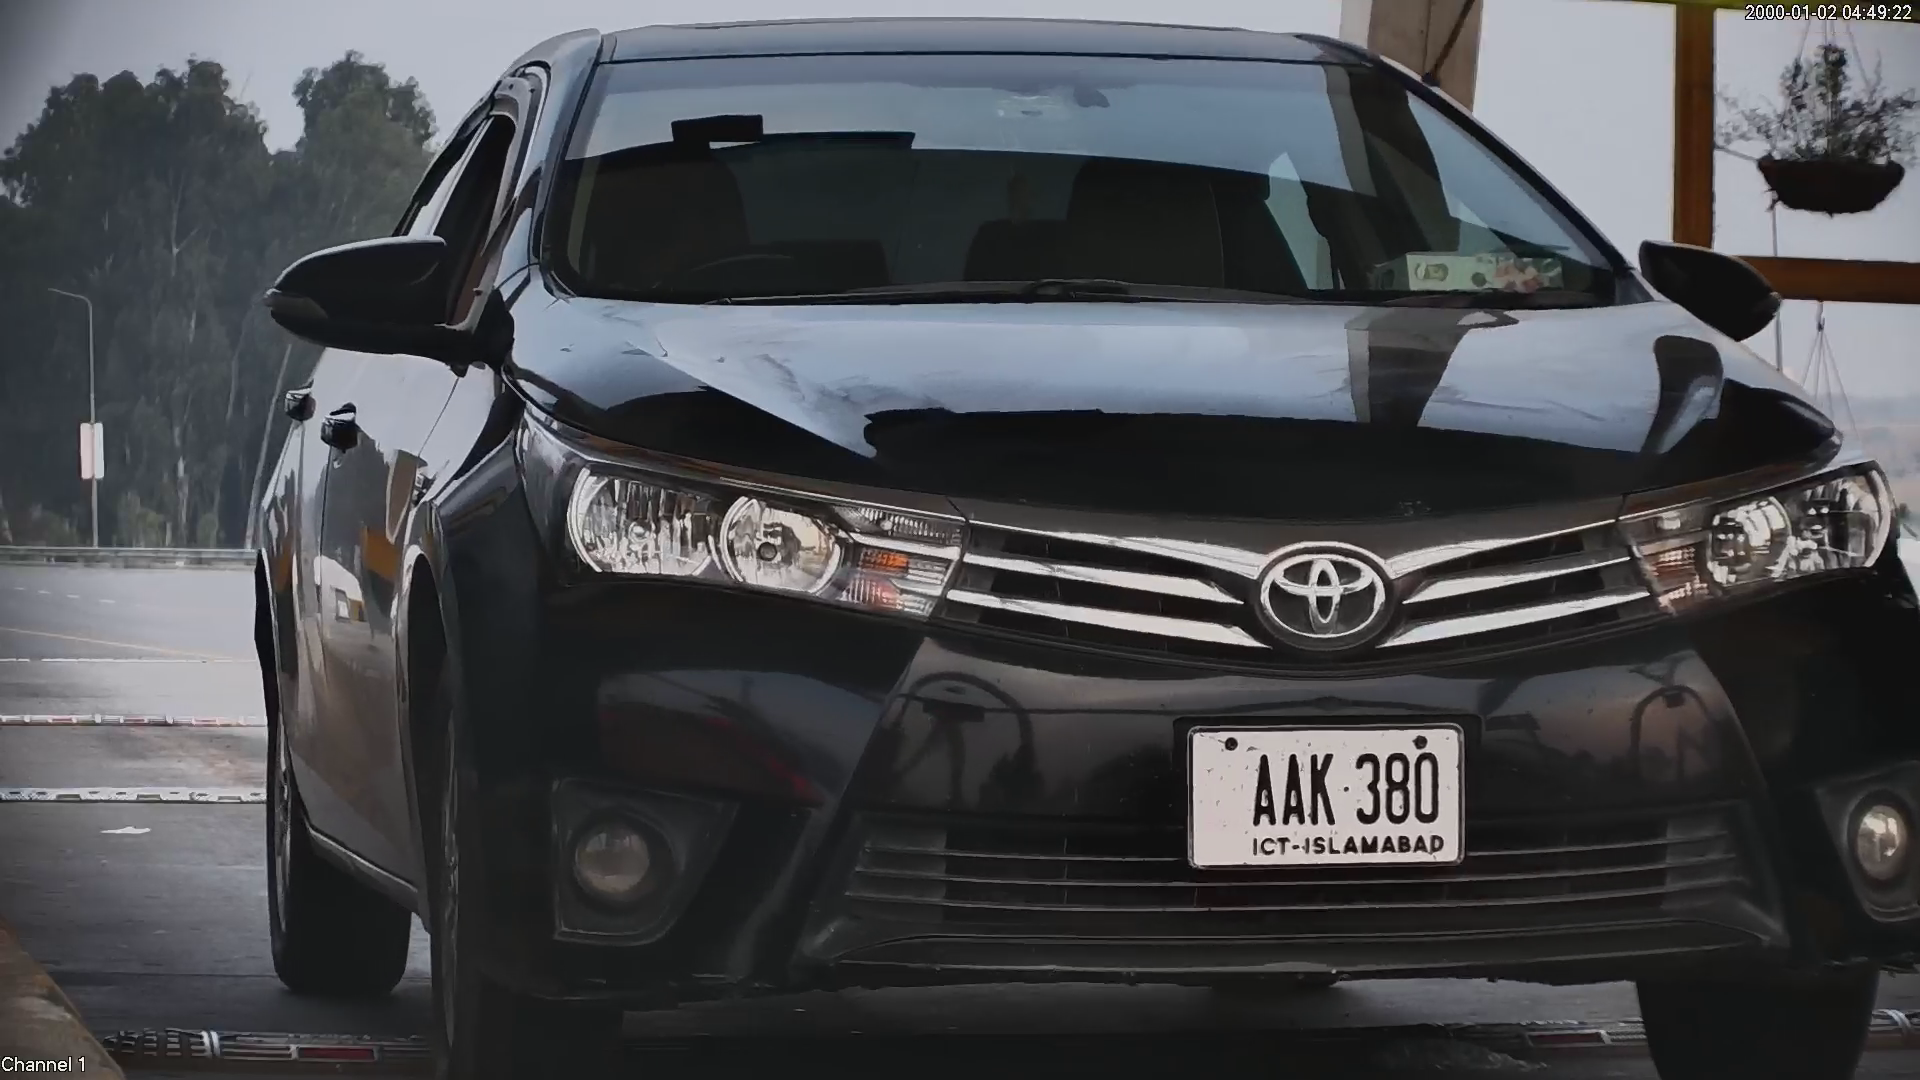Number_Plate: (1173, 716, 1475, 879)
